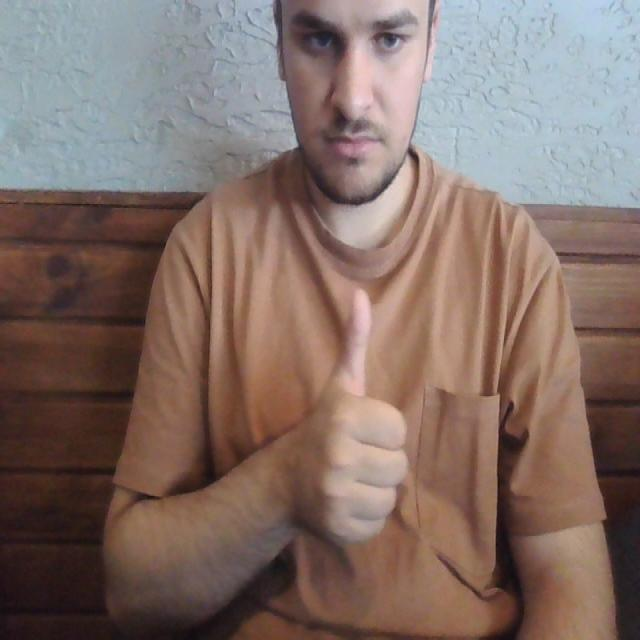Tamam: (291, 274, 416, 552)
